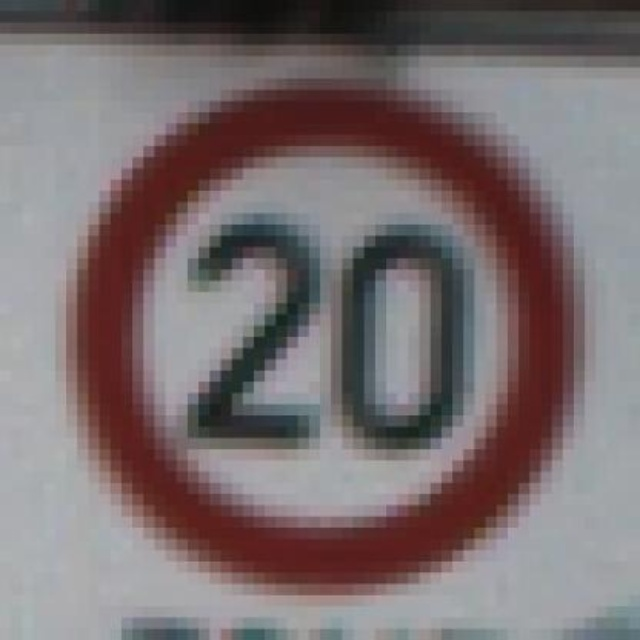Tốc độ tối đa cho phép 20km/h: (73, 82, 580, 592)
